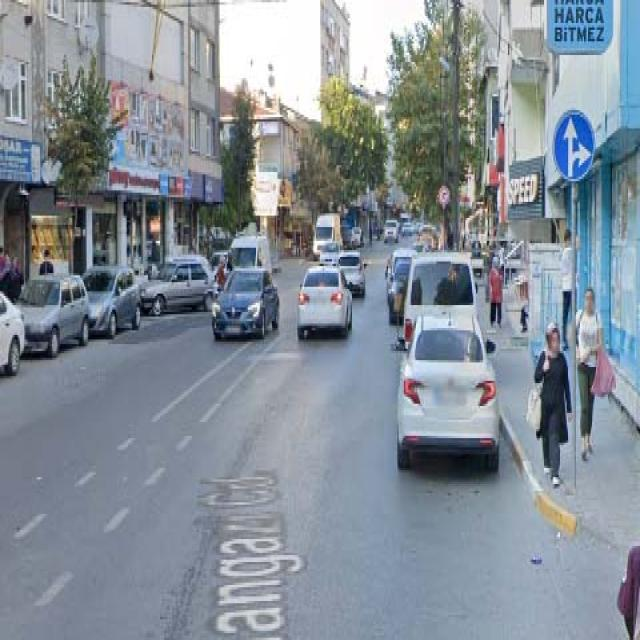ilerisag: (553, 110, 595, 181)
